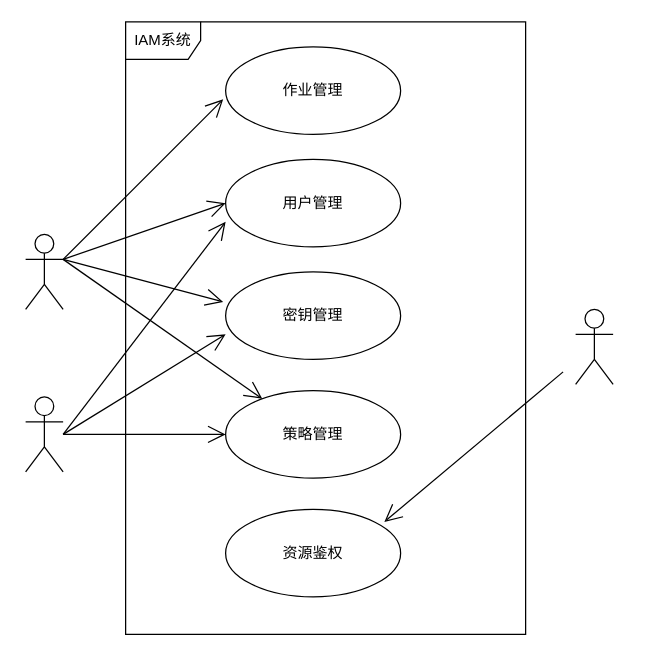
Image size: 653x656. Some labels were removed from this diagram. The shapes that lost their labels are listed below. From the top down, each one's centre as x and y in pixels, then its label:
At point (43, 271): "管理员".
At point (593, 346): "第三方应用".
At point (43, 434): "用户".
